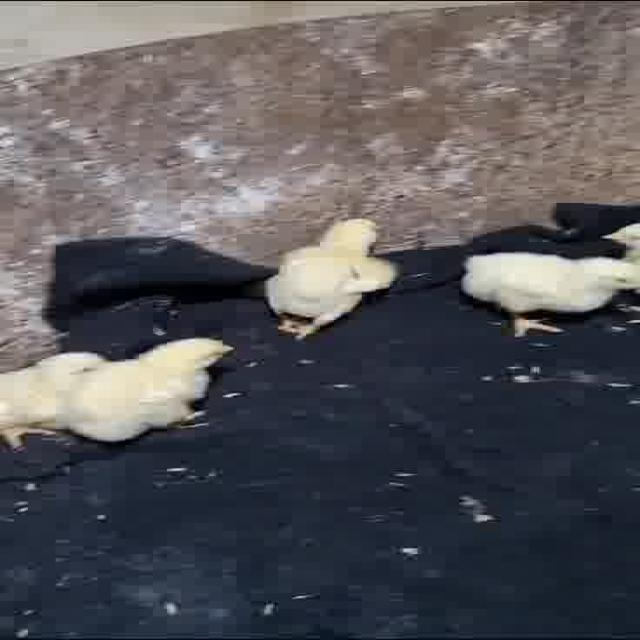poussin: (69, 333, 244, 445), (259, 213, 398, 345), (466, 243, 636, 345), (0, 345, 113, 446), (600, 218, 640, 253)
